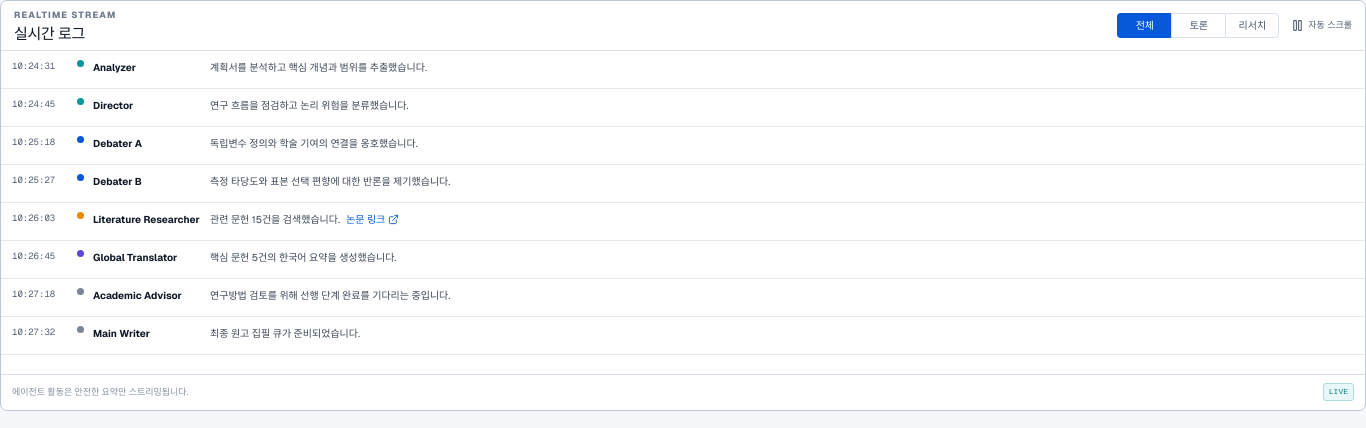
LiveLogs › filters debate and research events with accessible tabs
Click the tab "토론" at x=1198, y=25, box [1171,13,1225,38]
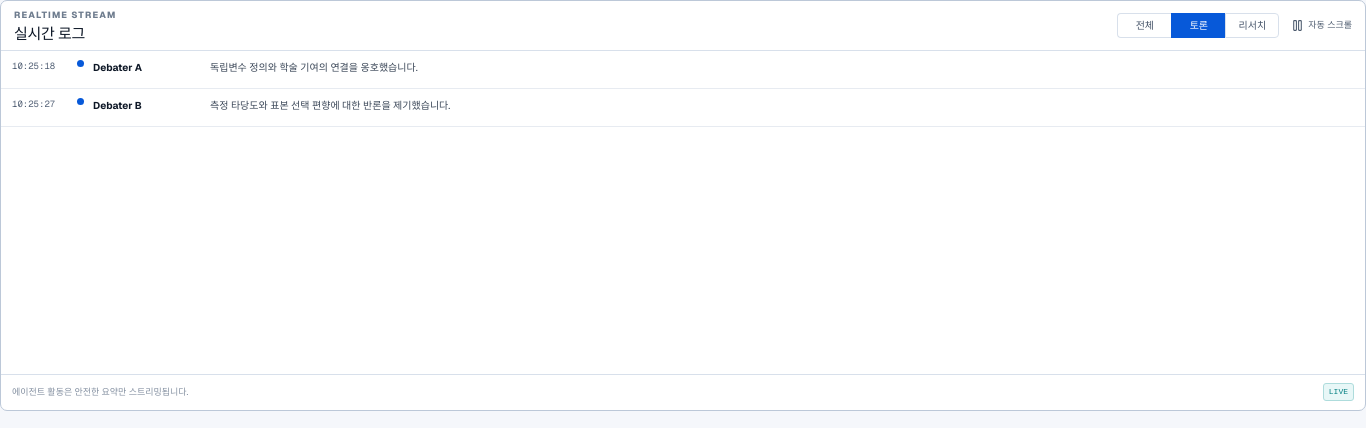
Check: the text "측정 타당도와 표본 선택 편향에 대한 반론을 제기했습니다." is shown, box [210,99,450,112]
Check: the text "문헌 15건" is gone
Click the tab "리서치" at x=1252, y=25, box [1225,13,1279,38]
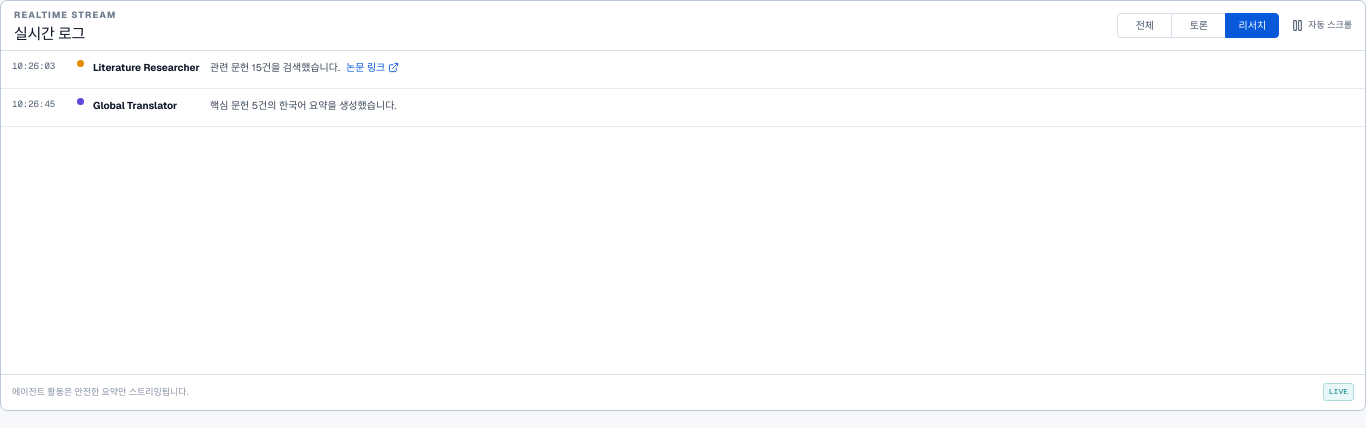
Check: the text "관련 문헌 15건을 검색했습니다. 논문 링크" is shown, box [210,61,399,74]
